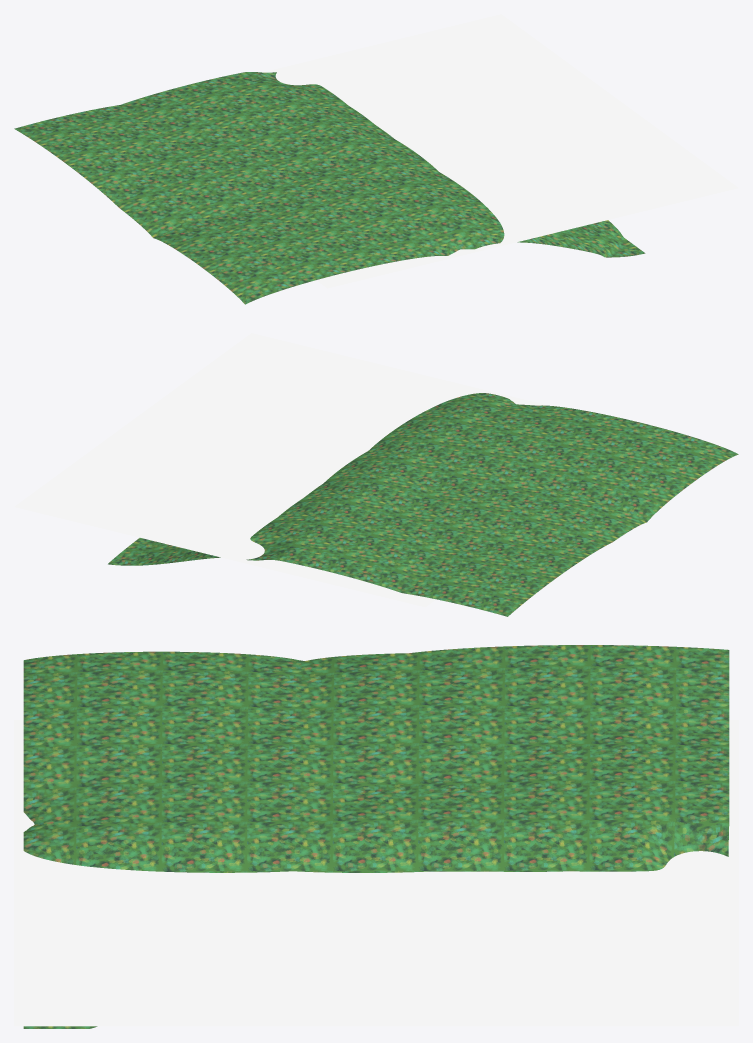
File: beach_ground2.glb
3 renders of one model, top to bottom at view 1: azimuth 30°, elevation 25°; view 2: azimuth 150°, elevation 25°; view 3: azimuth 270°, elevation 25°, orthographic. The views are drawn at different scales.
Visible parts, largest first — view 1: Beach.001, Plane.001; view 2: Beach.001, Plane.001; view 3: Beach.001, Plane.001.
Boxes of the visible parts, <box> form: Beach.001: <box>14,72,645,304</box>; Plane.001: <box>262,14,738,288</box>; Beach.001: <box>108,393,738,616</box>; Plane.001: <box>14,333,548,607</box>; Beach.001: <box>23,645,729,1028</box>; Plane.001: <box>14,720,738,1026</box>.
Size of the model in its own units: 245 by 27.12 by 205.
2 materials, 1 textured.
